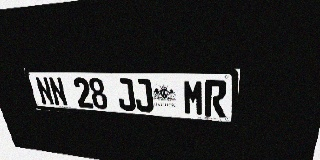2: (72, 77, 93, 108)
8: (88, 78, 109, 109)
J: (133, 78, 154, 112), (115, 78, 136, 111)
M: (183, 79, 204, 116)
N: (34, 77, 55, 106), (48, 77, 68, 106)
R: (205, 80, 227, 118)
